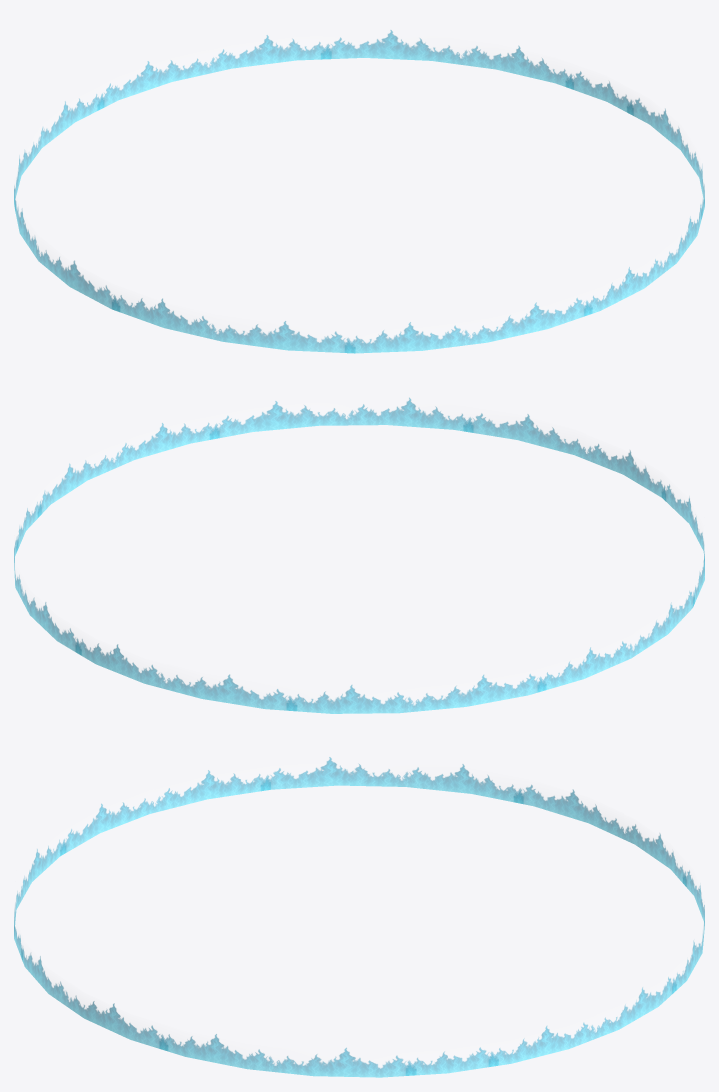
Rendered from platerform-halo.glb.
3 renders of one model, top to bottom at view 1: azimuth 30°, elevation 25°; view 2: azimuth 150°, elevation 25°; view 3: azimuth 270°, elevation 25°, orthographic.
Parts seen in each view (by area): view 1: flame; view 2: flame; view 3: flame.
Part boxes in pixels (x1,y1,x2,y2): flame: [14, 30, 704, 353]; flame: [14, 397, 704, 713]; flame: [14, 757, 704, 1077].
Bounding box in the file's own units: 29 × 2 × 29.
1 material, 1 textured.
